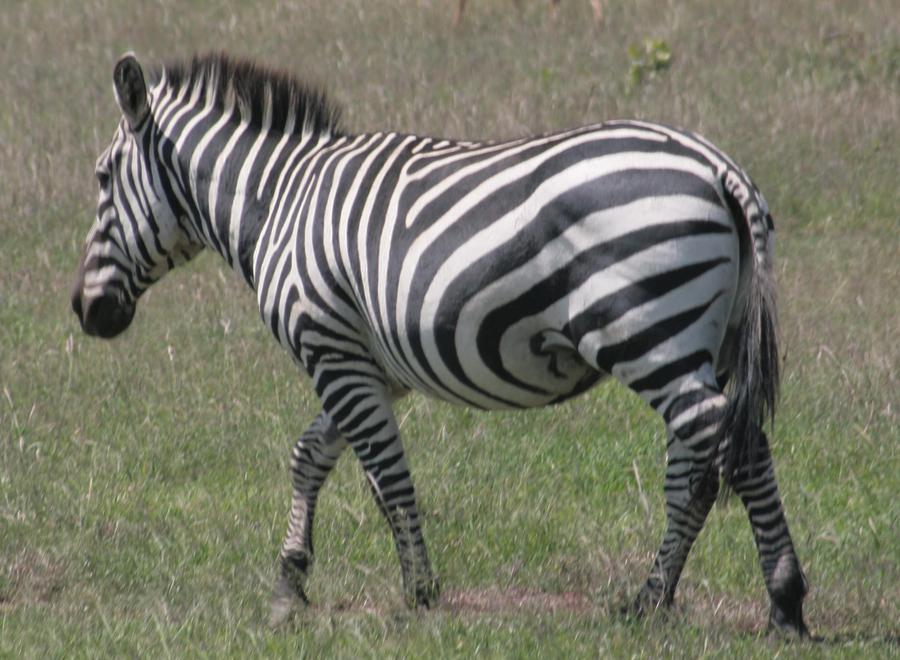zebra_plains: (249, 121, 747, 414)
